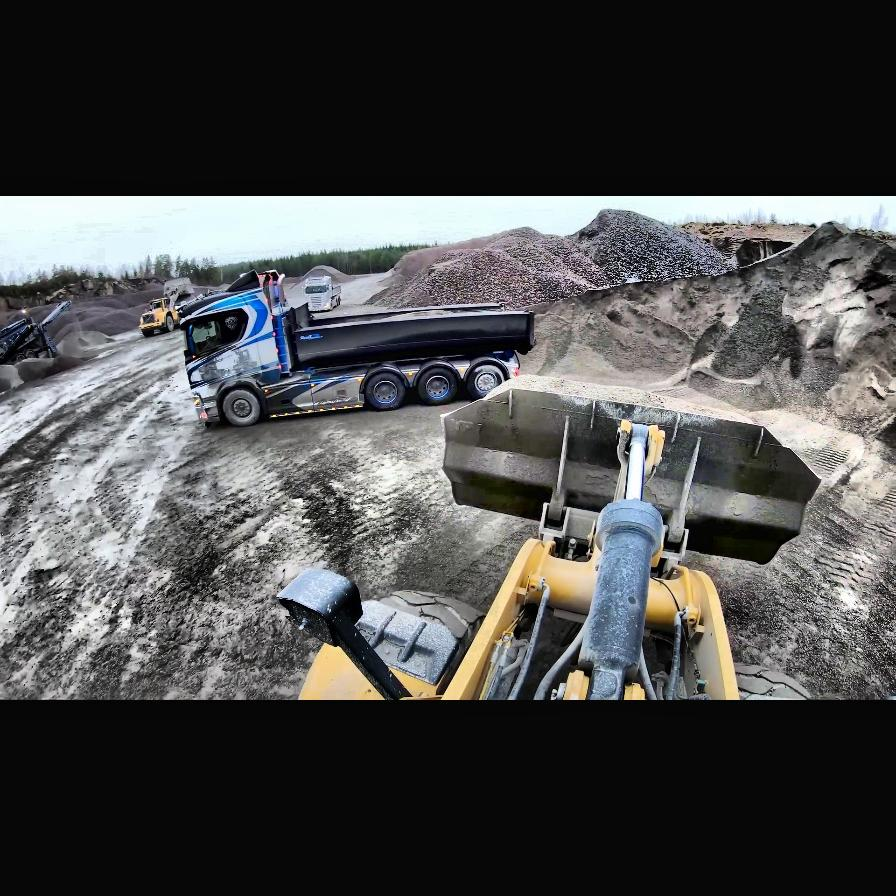anchor: (614, 420, 666, 504)
pile of gravel: (526, 217, 894, 423), (417, 210, 685, 314), (1, 271, 183, 361), (0, 330, 118, 392), (289, 265, 357, 289)
